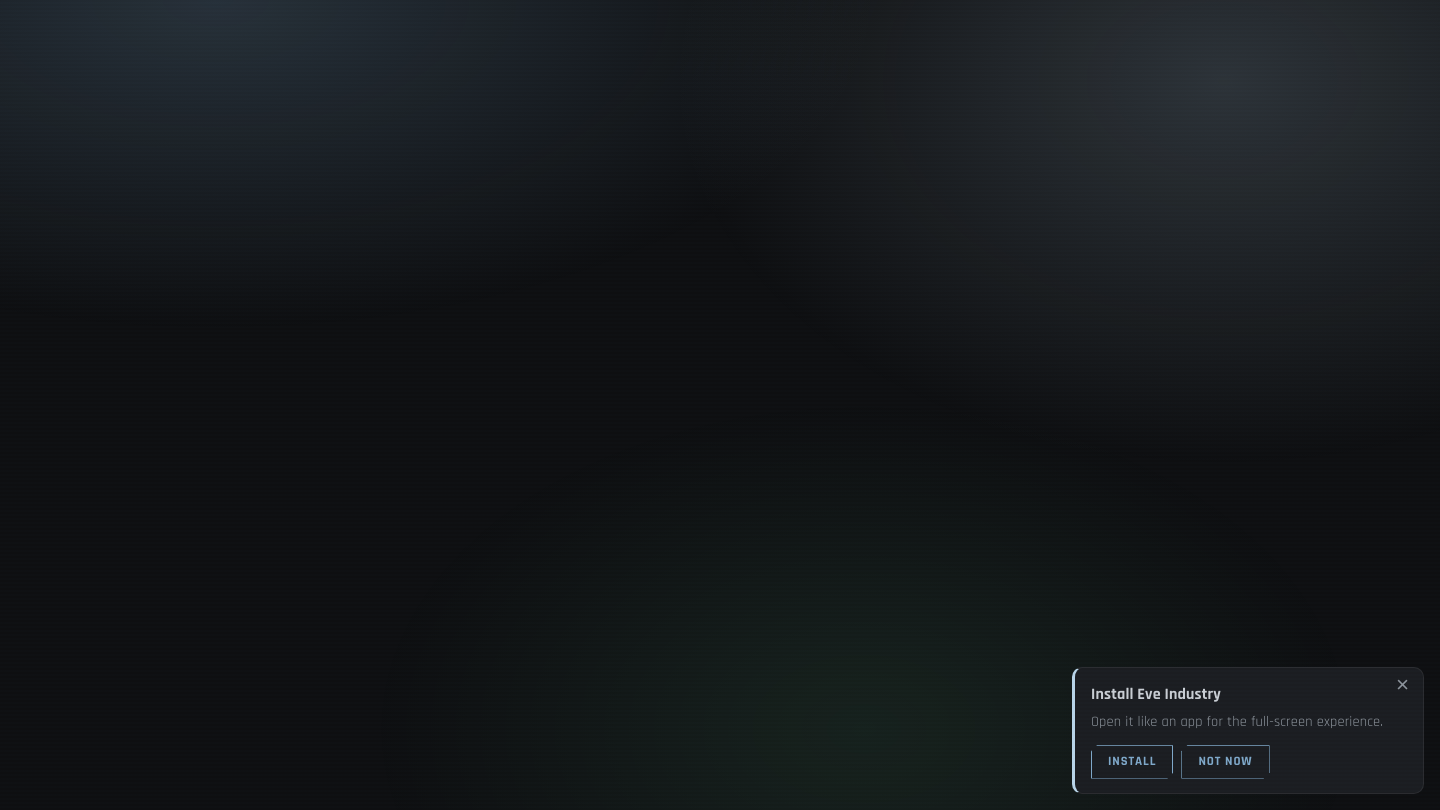
it: closes with the x button
The image size is (1440, 810).
Click the button named "Dismiss".
click(1402, 685)  # box top-left (1390, 673), bottom-right (1415, 698)
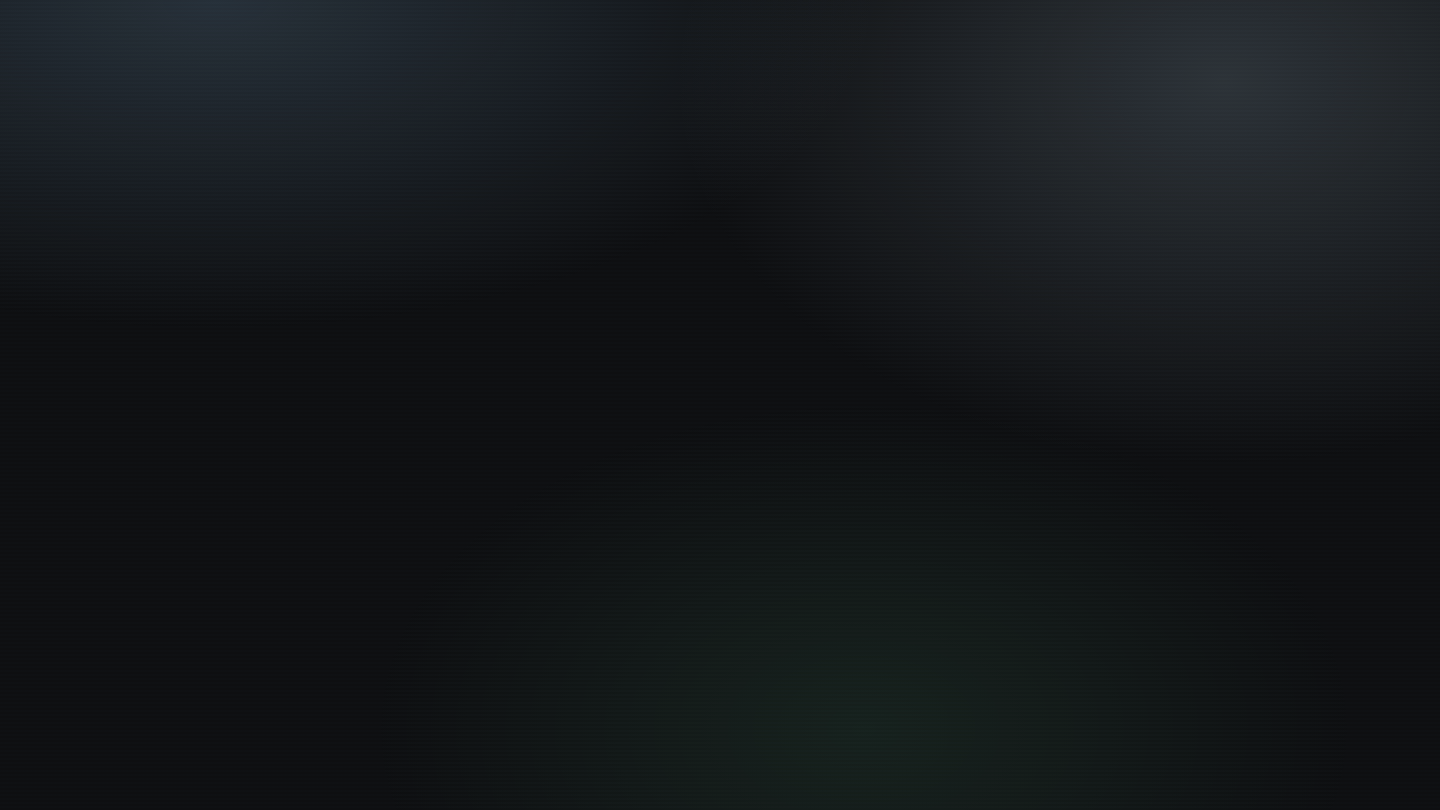
Check: the dialog is gone
